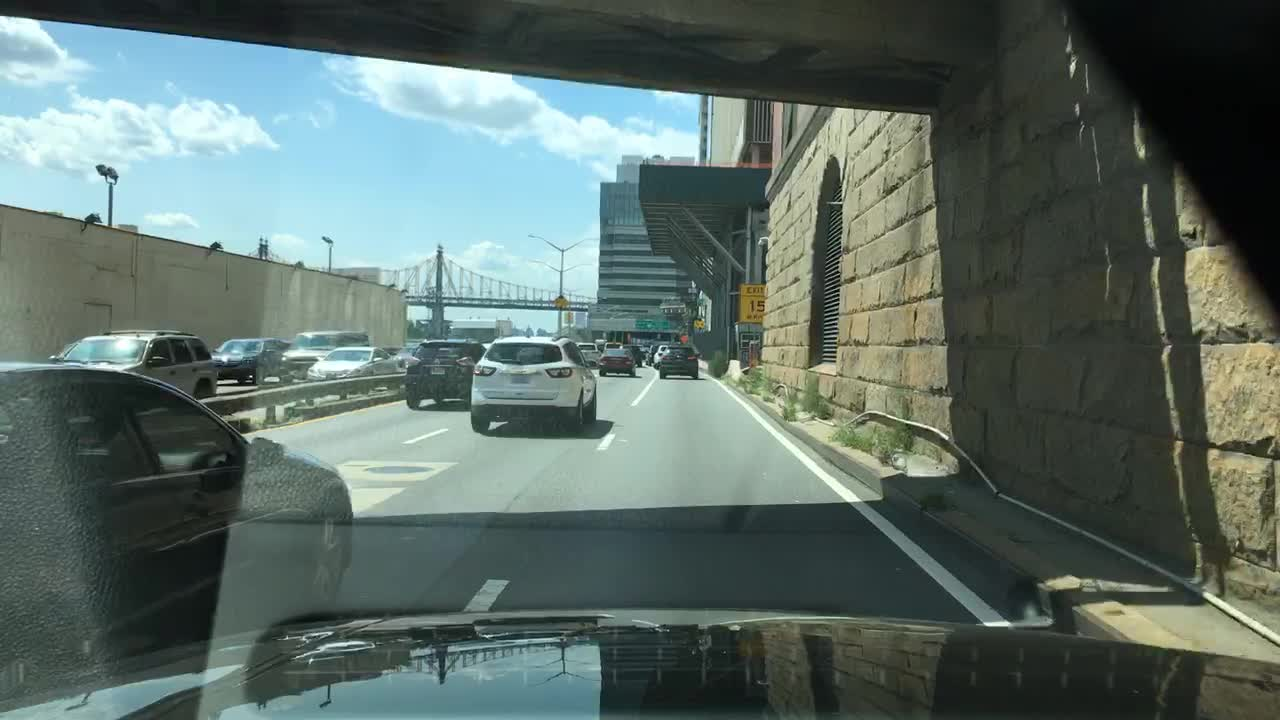car: (1, 360, 356, 667), (470, 335, 599, 431), (52, 328, 218, 400), (403, 335, 488, 406), (279, 326, 367, 383), (306, 345, 399, 392), (209, 337, 288, 386), (656, 342, 699, 376), (598, 347, 637, 376), (383, 345, 417, 367), (646, 339, 669, 362), (575, 342, 599, 362), (623, 343, 641, 365), (594, 336, 608, 349), (653, 347, 664, 363), (638, 342, 650, 353)
traffic sign: (736, 281, 764, 325), (633, 320, 668, 330), (555, 294, 564, 311), (563, 311, 573, 325), (693, 320, 702, 330)
